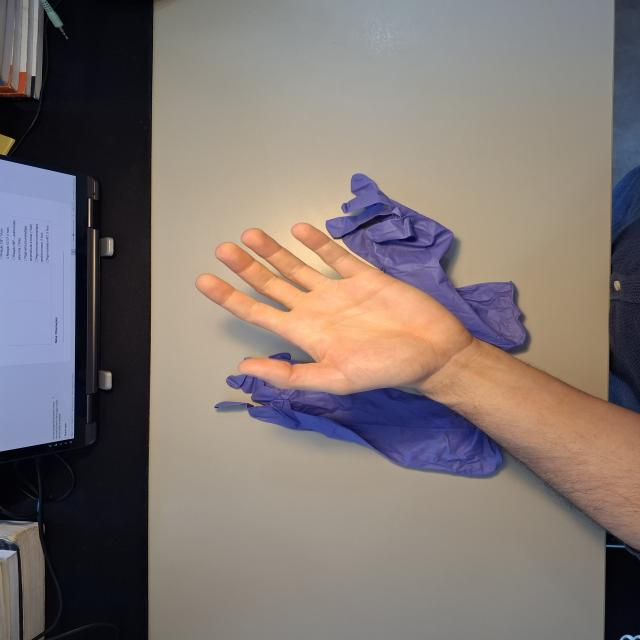glove_off: (193, 221, 478, 404)
